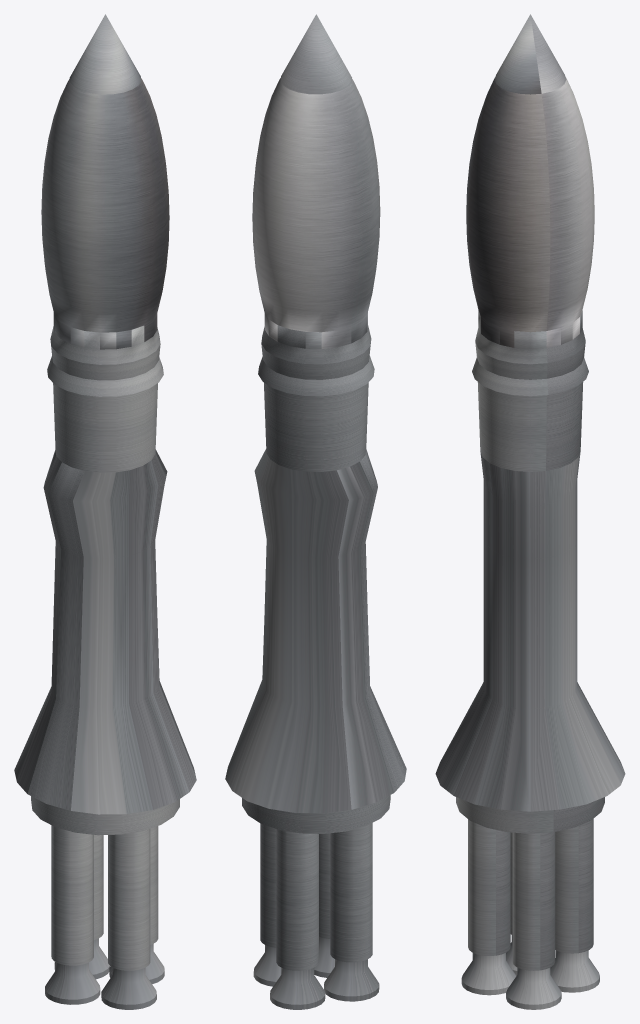
The model's file is missile.fbx.
The picture shows the model from 3 angles, left to right: view 1: azimuth 30°, elevation 25°; view 2: azimuth 150°, elevation 25°; view 3: azimuth 270°, elevation 25°; orthographic projection.
Parts seen in each view (by area): view 1: pCone2; view 2: pCone2; view 3: pCone2.
Part boxes in pixels (left/top/right/bottom): pCone2: left=14, top=14, right=196, bottom=1009; pCone2: left=225, top=14, right=406, bottom=1009; pCone2: left=435, top=14, right=625, bottom=1009.
Size of the model in its own units: 194 by 1153 by 205.
